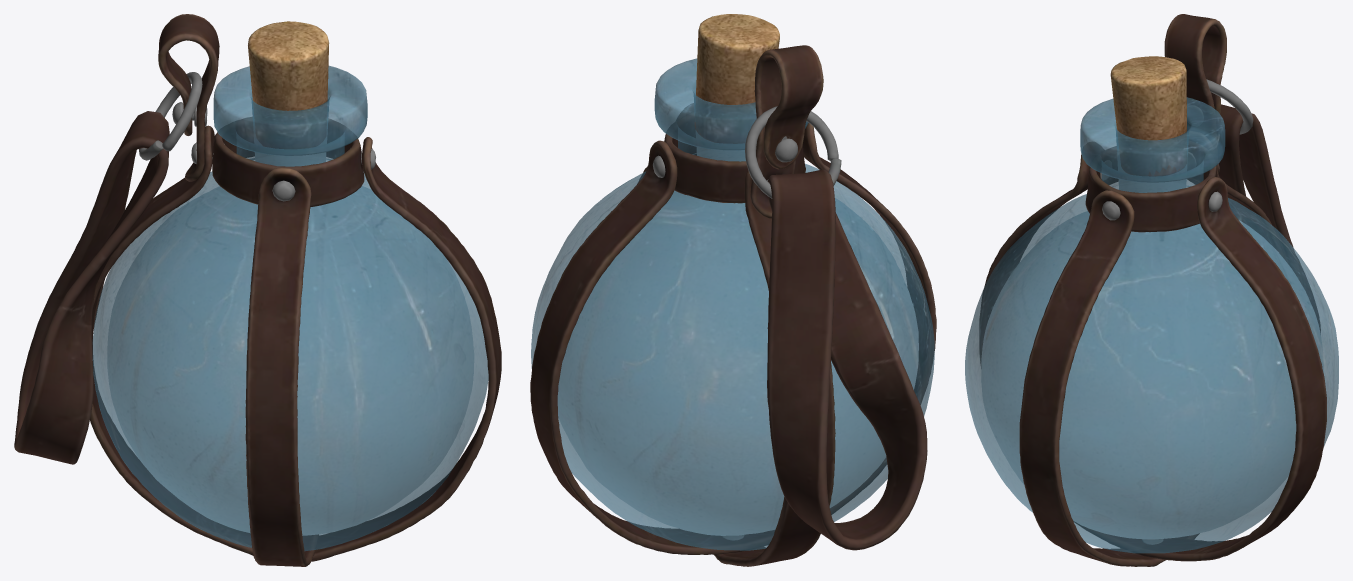
Rendered from small_bottle-transformed.glb.
3 renders of one model, left to right at view 1: azimuth 30°, elevation 25°; view 2: azimuth 150°, elevation 25°; view 3: azimuth 270°, elevation 25°, orthographic. The views are drawn at different scales.
Visible parts, largest first — view 1: Sklianka__0; view 2: Sklianka__0; view 3: Sklianka__0.
Part boxes in pixels (box(x1,y1,x2,y2)): Sklianka__0: box(14, 14, 501, 566); Sklianka__0: box(530, 14, 936, 566); Sklianka__0: box(965, 14, 1338, 566).
Bounding box in the file's own units: 0.1589 × 0.2048 × 0.1371.
Materials: 1 (1 with a texture image).
